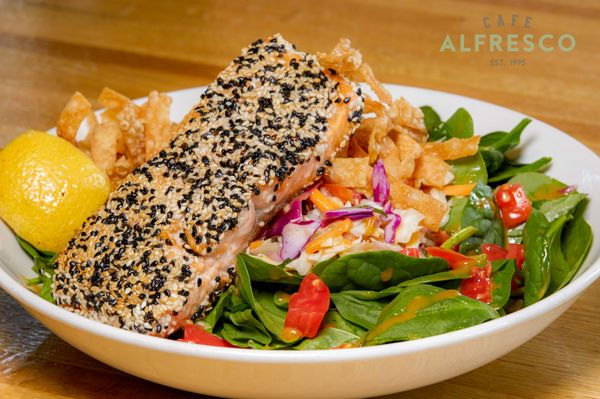sushi: (24, 59, 600, 395)
